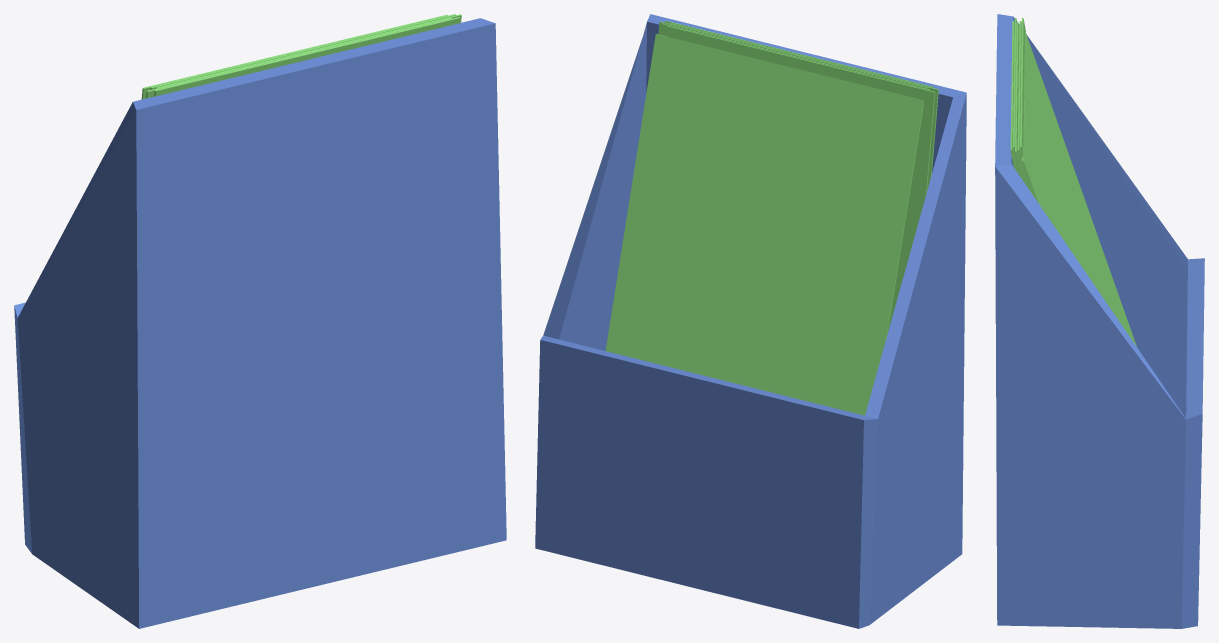
Rendered from PamphletHolder.fbx.
3 renders of one model, left to right at view 1: azimuth 30°, elevation 25°; view 2: azimuth 150°, elevation 25°; view 3: azimuth 270°, elevation 25°, orthographic. The views are drawn at different scales.
Visible parts, largest first — view 1: Cube.065; view 2: Cube.065; view 3: Cube.065.
Boxes of the visible parts, box(x1,y1,x2,y2) form: Cube.065: box(14, 14, 506, 628); Cube.065: box(535, 14, 966, 628); Cube.065: box(995, 14, 1204, 628).
Bounding box in the file's own units: 26.64 × 35.15 × 14.48.
